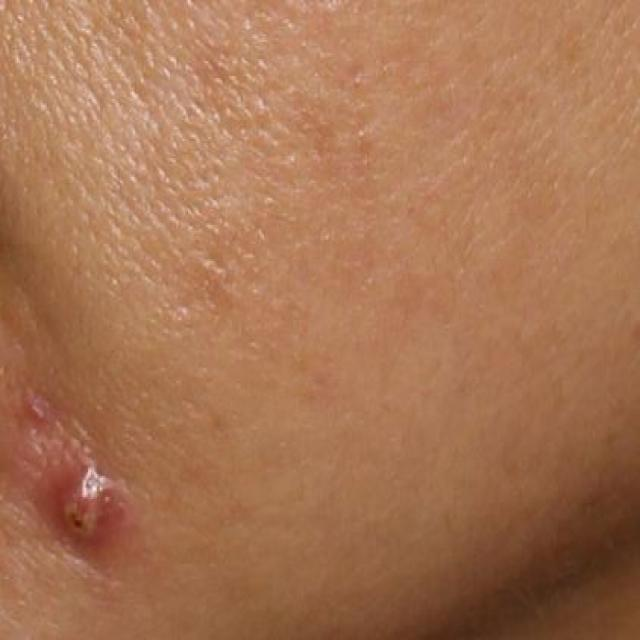blackheads: (48, 437, 136, 566)
